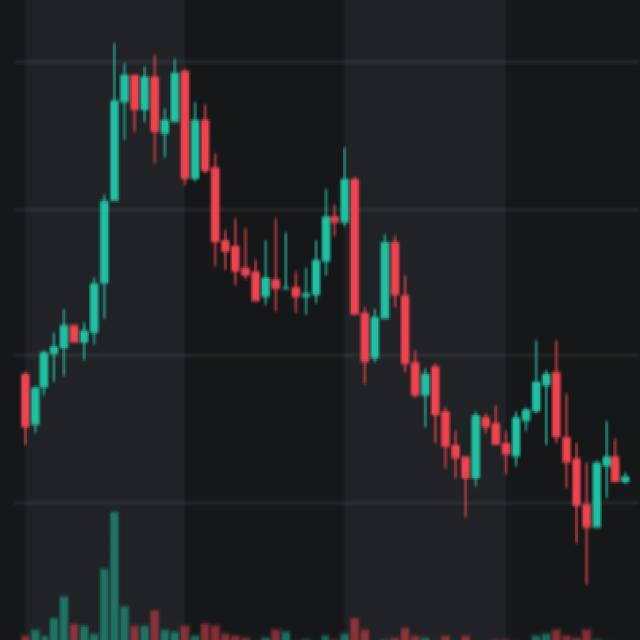Double-Top: (90, 52, 230, 261)
Support-breakout: (369, 237, 489, 500)
